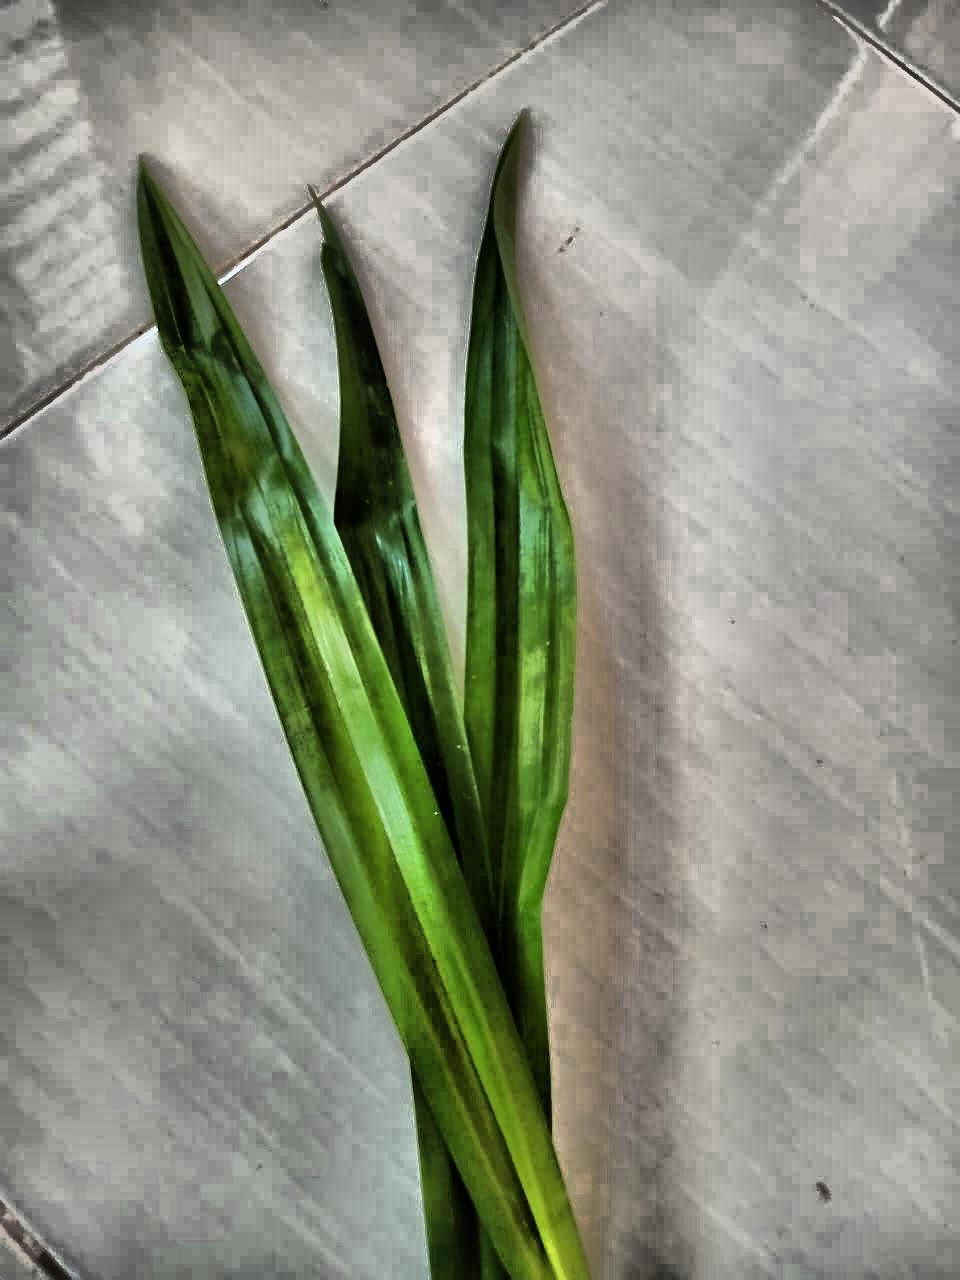daun pandan: (137, 123, 590, 1279)
